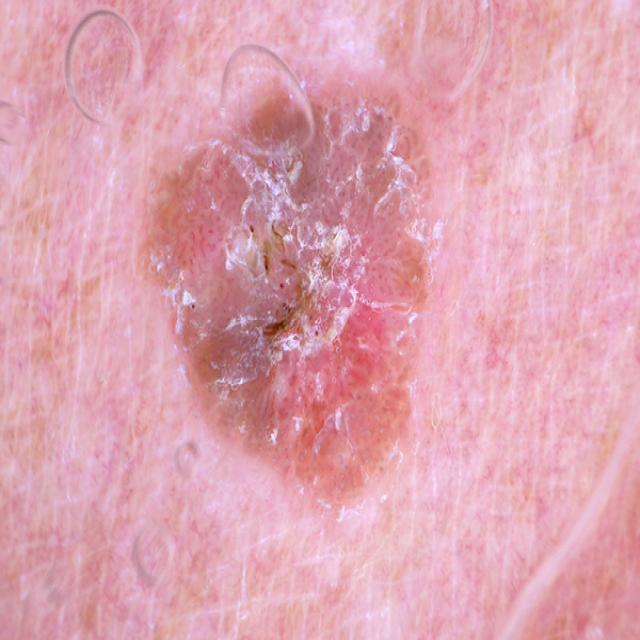Skin-Cancer Pigmented benign keratosis: (17, 28, 593, 616)
